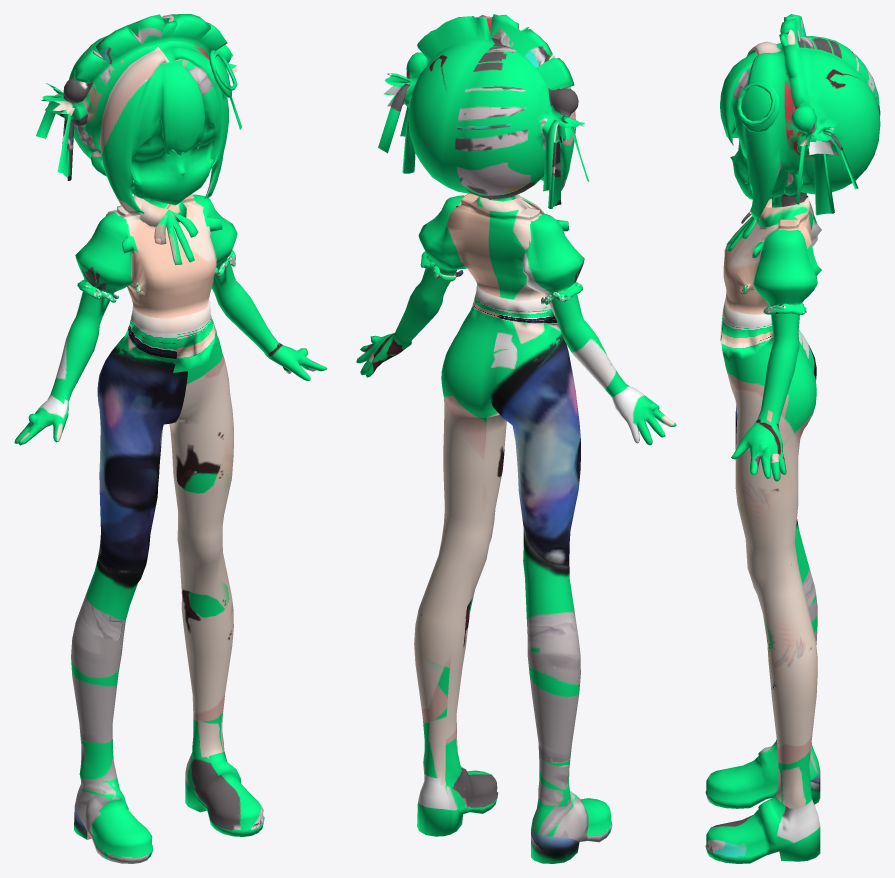
Rendered from SKM_Luna.fbx.
The picture shows the model from 3 angles, left to right: view 1: azimuth 30°, elevation 25°; view 2: azimuth 150°, elevation 25°; view 3: azimuth 270°, elevation 25°; orthographic projection. The views are drawn at different scales.
Parts seen in each view (by area): view 1: SKM_Luna; view 2: SKM_Luna; view 3: SKM_Luna.
Boxes of the visible parts, x1,y1,x2,y2 form: SKM_Luna: (14,14,326,863); SKM_Luna: (356,14,676,863); SKM_Luna: (705,14,880,863).
Bounding box in the file's own units: 60.37 × 150 × 29.72.
Materials: 1 (1 with a texture image).
